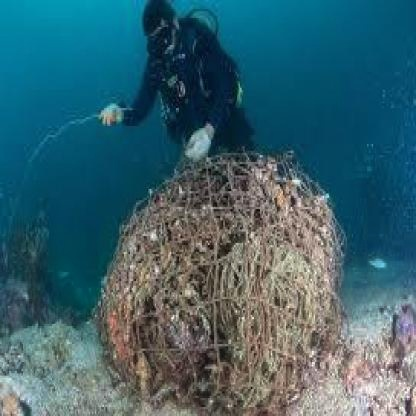net: (102, 155, 346, 409)
